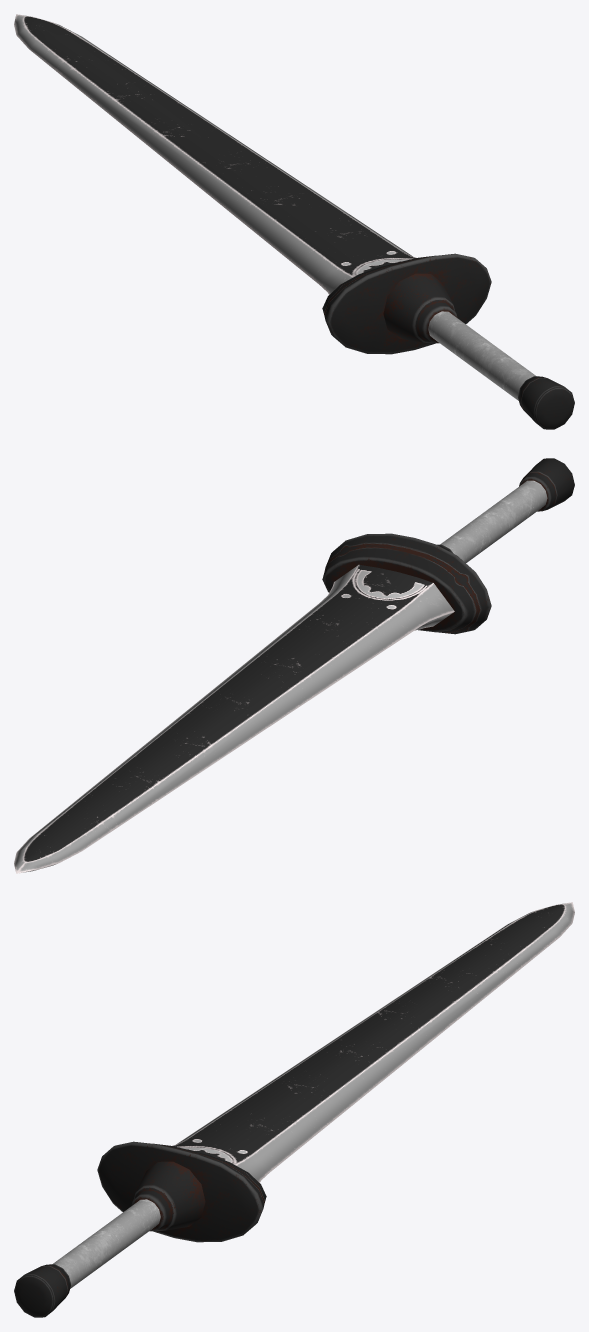
File: sao_sword.gltf
The picture shows the model from 3 angles, top to bottom: view 1: azimuth 30°, elevation 25°; view 2: azimuth 150°, elevation 25°; view 3: azimuth 330°, elevation 25°; orthographic projection.
Visible parts, largest first — view 1: blade_low, garda_low, handle__low, tube_low, apple_low; view 2: blade_low, garda_low, handle__low, apple_low; view 3: blade_low, garda_low, handle__low, tube_low, apple_low.
Boxes of the visible parts, x1,y1,x2,y2 form: blade_low: [14, 14, 416, 294]; garda_low: [322, 253, 491, 354]; handle__low: [428, 311, 536, 400]; tube_low: [383, 273, 457, 343]; apple_low: [518, 376, 574, 429]; blade_low: [14, 564, 454, 873]; garda_low: [322, 533, 491, 634]; handle__low: [440, 480, 547, 562]; apple_low: [519, 458, 574, 511]; blade_low: [172, 902, 574, 1182]; garda_low: [97, 1141, 266, 1242]; handle__low: [52, 1199, 160, 1288]; tube_low: [131, 1161, 205, 1231]; apple_low: [14, 1264, 70, 1317].
Size of the model in its own units: 1.91 by 0.9785 by 10.85.
1 material, 1 textured.
